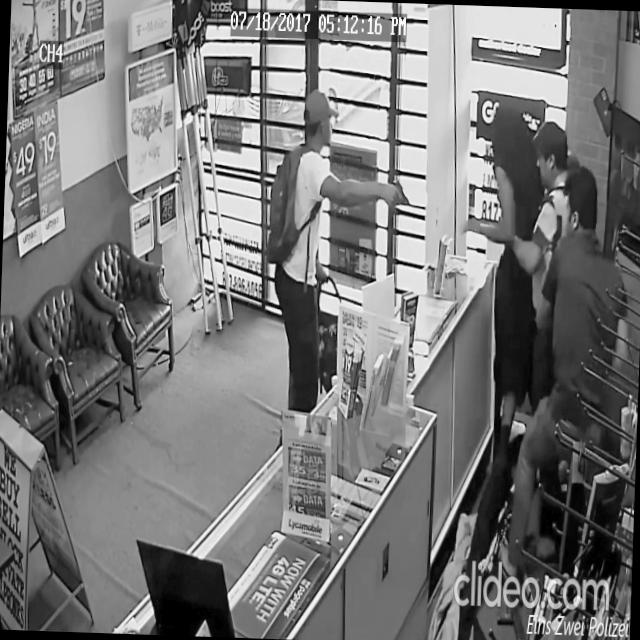gun: (390, 175, 410, 208)
person: (497, 160, 634, 588), (453, 101, 584, 511), (492, 116, 589, 562)
person with a gun: (260, 87, 414, 450)
